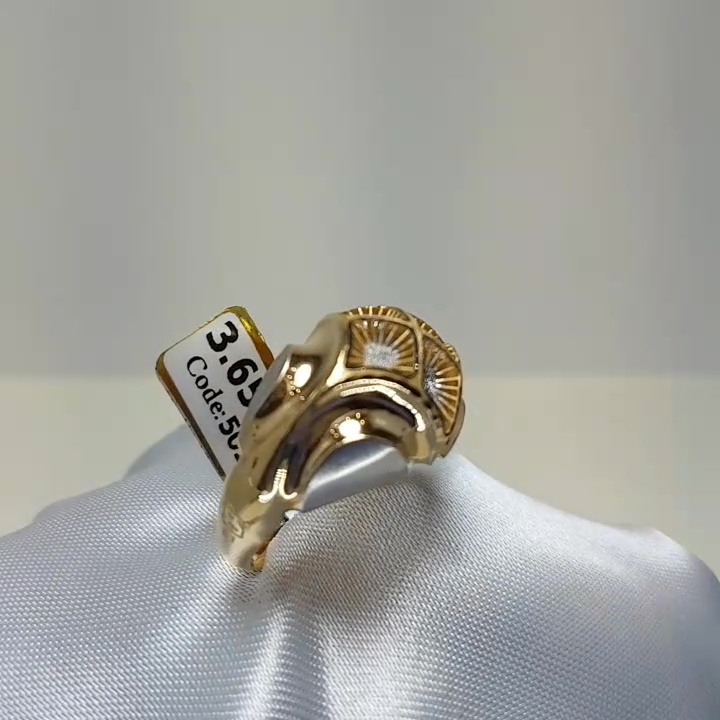Ring 2: (124, 271, 492, 571)
